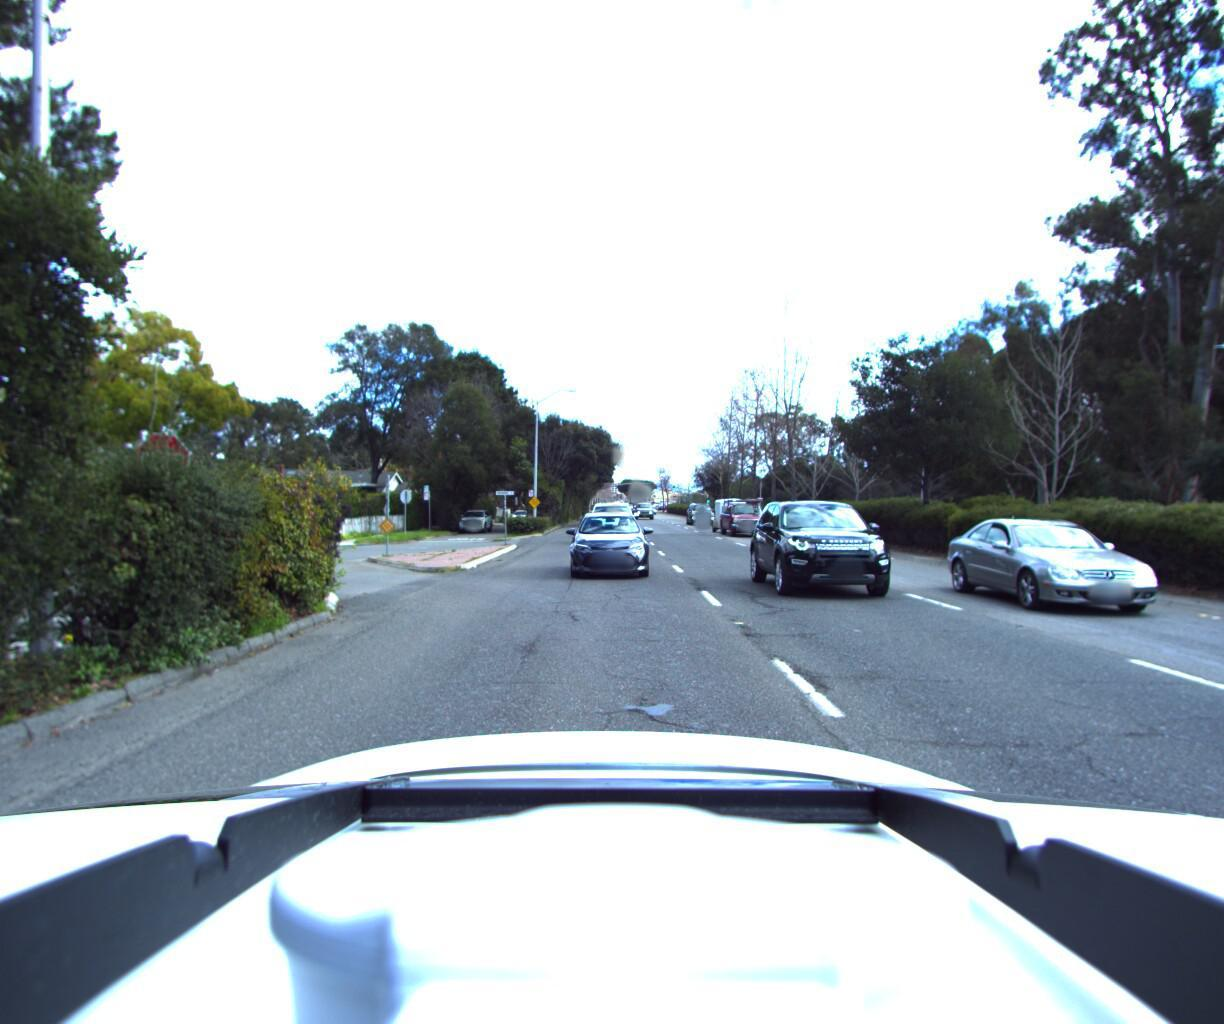car: (963, 514, 1224, 634), (753, 499, 934, 616), (565, 511, 653, 585), (711, 495, 778, 542), (588, 504, 637, 548), (458, 509, 498, 536), (688, 504, 721, 528)
